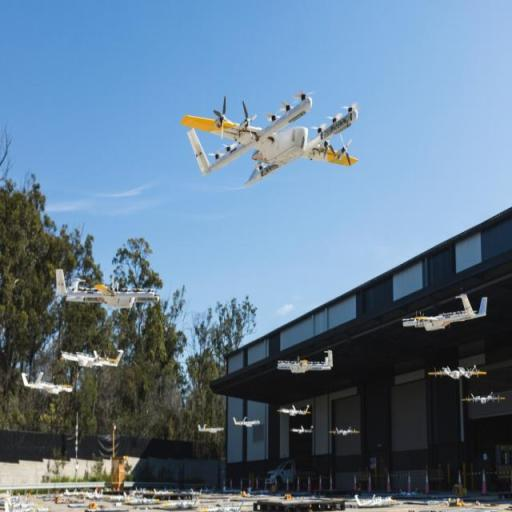uav: (176, 83, 364, 201)
